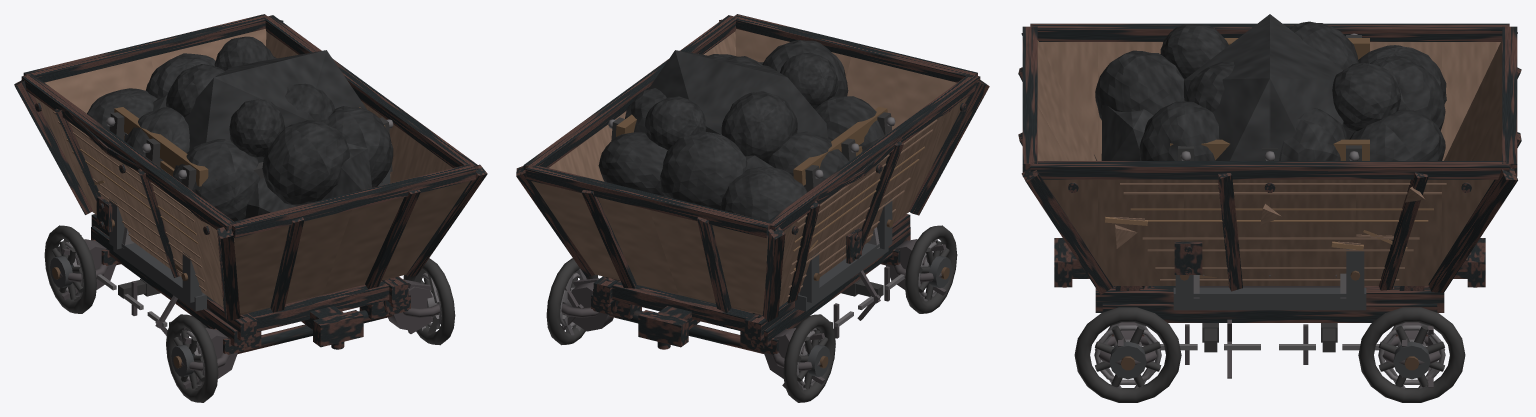
Rendered from b4-minecart-v32.glb.
3 views of the same model, side by side, from view 1: azimuth 30°, elevation 25°; view 2: azimuth 150°, elevation 25°; view 3: azimuth 270°, elevation 25° (orthographic). The views are drawn at different scales.
Visible parts, largest first — view 1: b4:cart-practical-v32, b4:buried-ore-cart, b4:cart-detail-additions, B4_V31_INDIVIDUAL_ORE_7, b4:cart-v14-quality, B4_V31_INDIVIDUAL_ORE_5, B4_V31_INDIVIDUAL_ORE_6, B4_V31_INDIVIDUAL_ORE_10, b4:load-coupler-v22, B4_V31_INDIVIDUAL_ORE_3, B4_V31_INDIVIDUAL_ORE_8, B4_V31_INDIVIDUAL_ORE_0 (+3 smaller); view 2: b4:cart-practical-v32, b4:buried-ore-cart, b4:cart-detail-additions, B4_V31_INDIVIDUAL_ORE_1, b4:cart-v14-quality, B4_V31_INDIVIDUAL_ORE_8, B4_V31_INDIVIDUAL_ORE_0, B4_V31_INDIVIDUAL_ORE_2, B4_V31_INDIVIDUAL_ORE_11, B4_V31_INDIVIDUAL_ORE_10, B4_V31_INDIVIDUAL_ORE_3, B4_V31_INDIVIDUAL_ORE_5 (+3 smaller); view 3: b4:cart-practical-v32, b4:buried-ore-cart, b4:cart-detail-additions, b4:cart-v14-quality, B4_V31_INDIVIDUAL_ORE_7, B4_V31_INDIVIDUAL_ORE_6, B4_V31_INDIVIDUAL_ORE_11, B4_V31_INDIVIDUAL_ORE_2, B4_V31_INDIVIDUAL_ORE_1, B4_V31_INDIVIDUAL_ORE_4, B4_V31_INDIVIDUAL_ORE_10, b4:load-coupler-v22 (+3 smaller).
Boxes of the visible parts, box(x1,y1,x2,y2) form: b4:cart-practical-v32: box(14, 14, 487, 355); b4:buried-ore-cart: box(60, 50, 440, 388); b4:cart-detail-additions: box(44, 107, 455, 402); B4_V31_INDIVIDUAL_ORE_7: box(262, 120, 349, 205); b4:cart-v14-quality: box(50, 133, 390, 376); B4_V31_INDIVIDUAL_ORE_5: box(173, 139, 260, 221); B4_V31_INDIVIDUAL_ORE_6: box(325, 106, 393, 187); B4_V31_INDIVIDUAL_ORE_10: box(229, 99, 285, 157); b4:load-coupler-v22: box(301, 306, 363, 349); B4_V31_INDIVIDUAL_ORE_3: box(124, 107, 189, 167); B4_V31_INDIVIDUAL_ORE_8: box(166, 64, 224, 117); B4_V31_INDIVIDUAL_ORE_0: box(87, 88, 157, 129); b4:cart-practical-v32: box(516, 14, 989, 355); b4:buried-ore-cart: box(561, 50, 946, 388); b4:cart-detail-additions: box(546, 107, 957, 402); B4_V31_INDIVIDUAL_ORE_1: box(660, 131, 747, 209); b4:cart-v14-quality: box(795, 198, 951, 376); B4_V31_INDIVIDUAL_ORE_8: box(721, 91, 797, 162); B4_V31_INDIVIDUAL_ORE_0: box(720, 166, 807, 221); B4_V31_INDIVIDUAL_ORE_2: box(598, 132, 667, 196); B4_V31_INDIVIDUAL_ORE_11: box(644, 96, 706, 149); B4_V31_INDIVIDUAL_ORE_10: box(780, 52, 838, 108); B4_V31_INDIVIDUAL_ORE_3: box(766, 131, 849, 182); B4_V31_INDIVIDUAL_ORE_5: box(814, 96, 884, 151); b4:cart-practical-v32: box(1018, 23, 1521, 336); b4:buried-ore-cart: box(1095, 14, 1444, 387); b4:cart-detail-additions: box(1074, 33, 1465, 402); b4:cart-v14-quality: box(1109, 249, 1430, 379); B4_V31_INDIVIDUAL_ORE_7: box(1095, 50, 1184, 120); B4_V31_INDIVIDUAL_ORE_6: box(1139, 101, 1219, 160); B4_V31_INDIVIDUAL_ORE_11: box(1332, 63, 1400, 131); B4_V31_INDIVIDUAL_ORE_2: box(1349, 109, 1445, 160); B4_V31_INDIVIDUAL_ORE_1: box(1370, 56, 1445, 130); B4_V31_INDIVIDUAL_ORE_4: box(1279, 108, 1347, 160); B4_V31_INDIVIDUAL_ORE_10: box(1160, 23, 1228, 79); b4:load-coupler-v22: box(1054, 238, 1485, 287).
Bounding box in the file's own units: 2.64 × 2.41 × 3.65.
36 materials, 26 textured.
